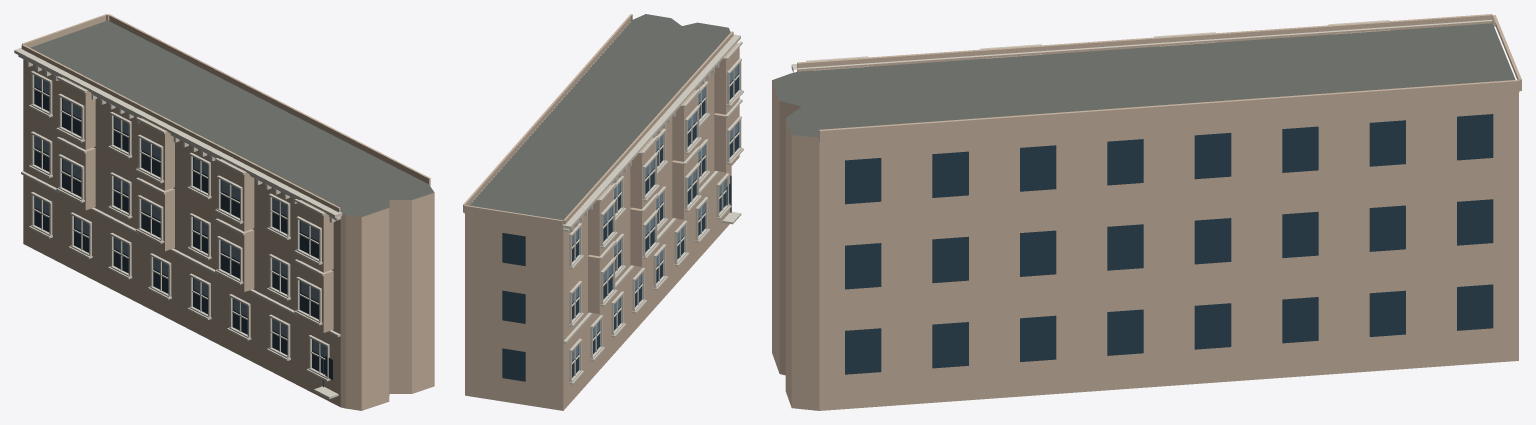
3 views of the same model, side by side, from view 1: azimuth 30°, elevation 25°; view 2: azimuth 150°, elevation 25°; view 3: azimuth 270°, elevation 25° (orthographic). The views are drawn at different scales.
Parts seen in each view (by area): view 1: Footprint 0 / surface 2, Footprint 0 / surface 1, Cornices and window frames, Facade bay volumes, Inset glazing, Sky reflection panels; view 2: Footprint 0 / surface 2, Footprint 0 / surface 1, Cornices and window frames, Facade bay volumes, Inset glazing, Sky reflection panels; view 3: Footprint 0 / surface 2, Footprint 0 / surface 1, Inset glazing, Facade bay volumes, Cornices and window frames.
Part boxes in pixels (<box>): Footprint 0 / surface 2: <box>23,59,434,410</box>; Footprint 0 / surface 1: <box>30,20,434,216</box>; Cornices and window frames: <box>14,47,342,398</box>; Facade bay volumes: <box>21,14,430,332</box>; Inset glazing: <box>34,75,332,380</box>; Sky reflection panels: <box>35,75,326,356</box>; Footprint 0 / surface 2: <box>465,73,731,410</box>; Footprint 0 / surface 1: <box>469,14,730,220</box>; Cornices and window frames: <box>562,34,743,384</box>; Facade bay volumes: <box>463,14,739,313</box>; Inset glazing: <box>502,64,738,381</box>; Sky reflection panels: <box>572,64,738,360</box>; Footprint 0 / surface 2: <box>772,80,1518,410</box>; Footprint 0 / surface 1: <box>772,23,1515,137</box>; Inset glazing: <box>845,114,1493,374</box>; Facade bay volumes: <box>797,14,1521,142</box>; Cornices and window frames: <box>791,19,1492,72</box>.
Bounding box in the file's own units: 11.29 × 12.18 × 29.43.
